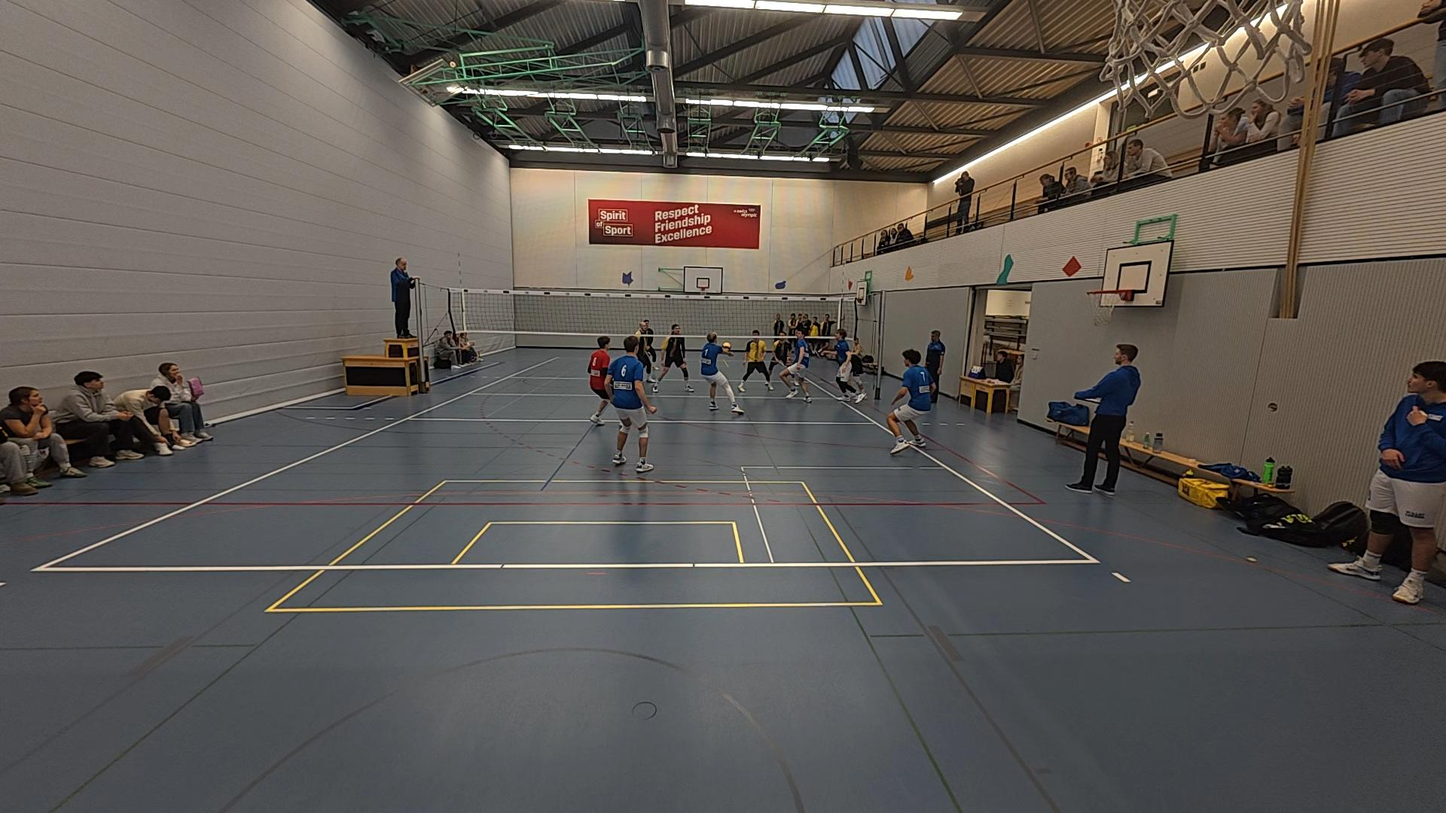Dig: (698, 331, 745, 415)
Player: (607, 341, 657, 471), (885, 349, 928, 455), (830, 327, 867, 406), (587, 335, 616, 427), (777, 328, 813, 400), (735, 330, 773, 394), (654, 322, 688, 391), (764, 329, 793, 399), (630, 321, 657, 386), (637, 318, 660, 368)
ball: (720, 338, 734, 354)
